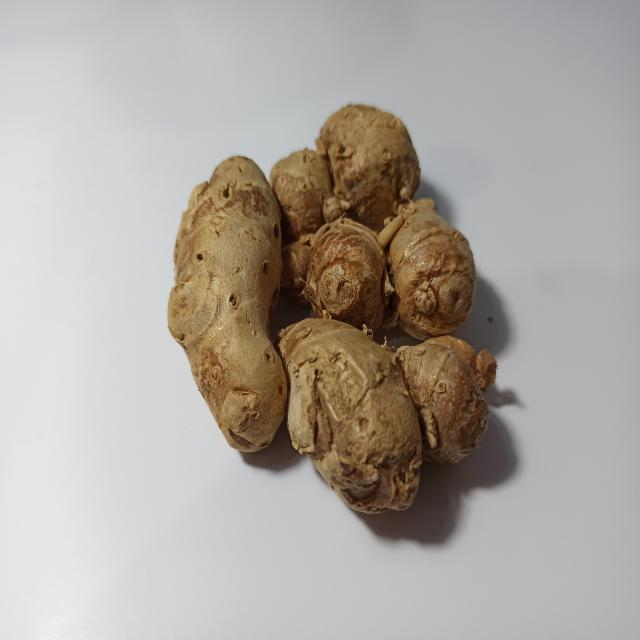ginger: (180, 109, 488, 502)
